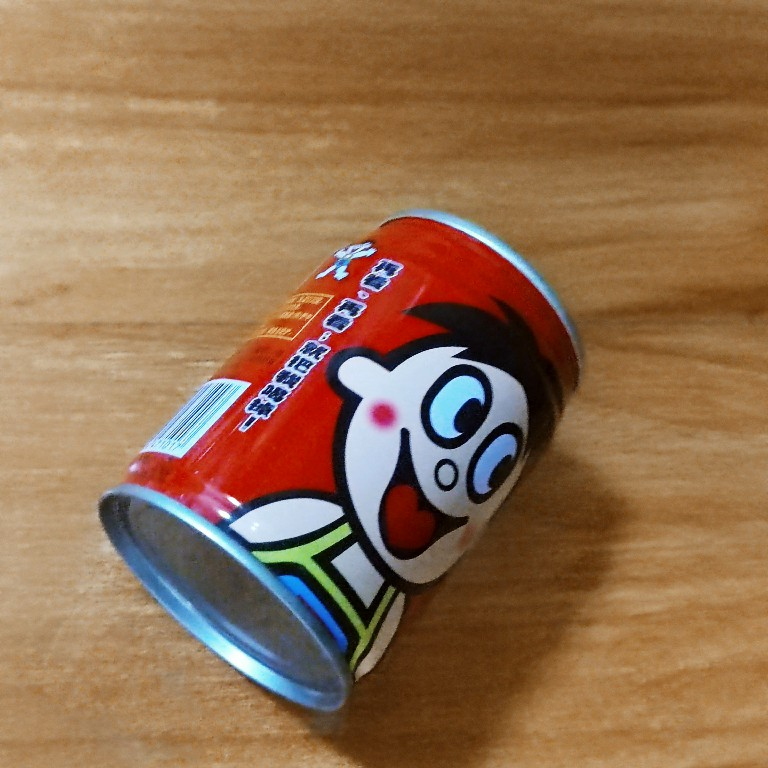can: (94, 203, 587, 722)
